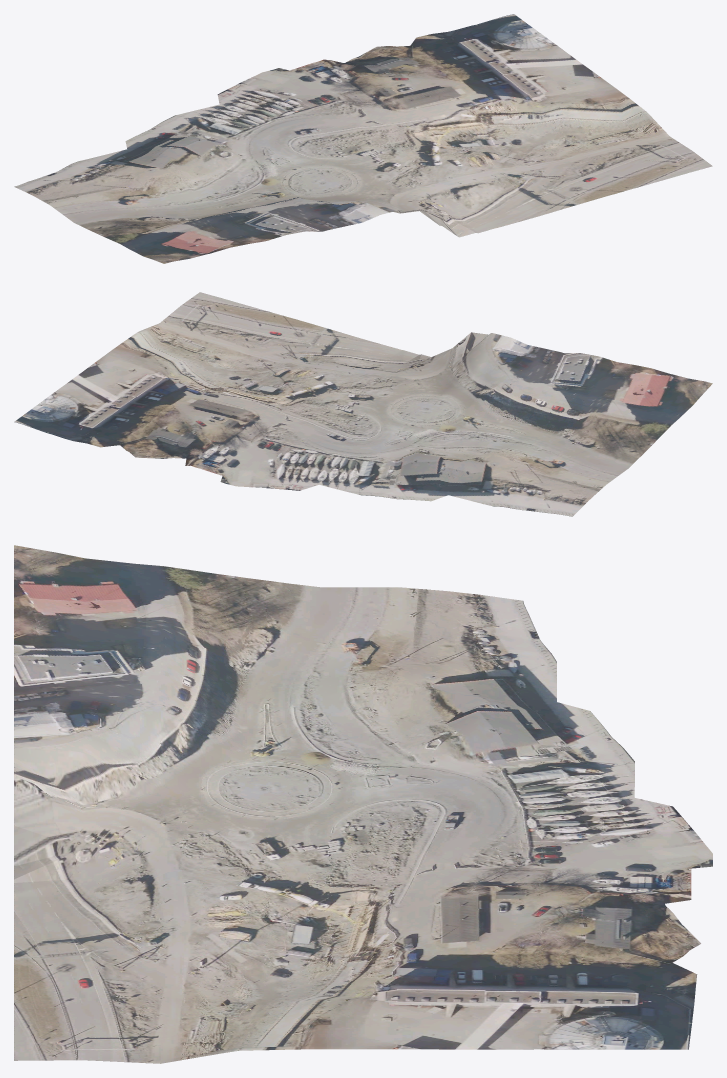
File: CM_Terrain_24487797_6822046.fbx
3 renders of one model, top to bottom at view 1: azimuth 30°, elevation 25°; view 2: azimuth 150°, elevation 25°; view 3: azimuth 270°, elevation 25°, orthographic. The views are drawn at different scales.
Visible parts, largest first — view 1: CM_Terrain_24487797_6822046_LOD0; view 2: CM_Terrain_24487797_6822046_LOD0; view 3: CM_Terrain_24487797_6822046_LOD0.
Part boxes in pixels (box(x1,y1,x2,y2)): CM_Terrain_24487797_6822046_LOD0: box(14, 14, 712, 263); CM_Terrain_24487797_6822046_LOD0: box(14, 292, 712, 516); CM_Terrain_24487797_6822046_LOD0: box(14, 545, 712, 1063).
Size of what is drawn, in the model's own units: 205 by 16.42 by 133.
